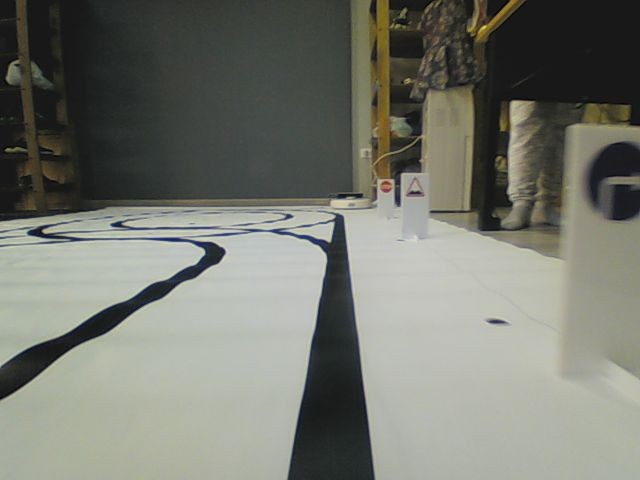Nerov: (406, 176, 425, 198)
Right: (583, 139, 640, 224)
